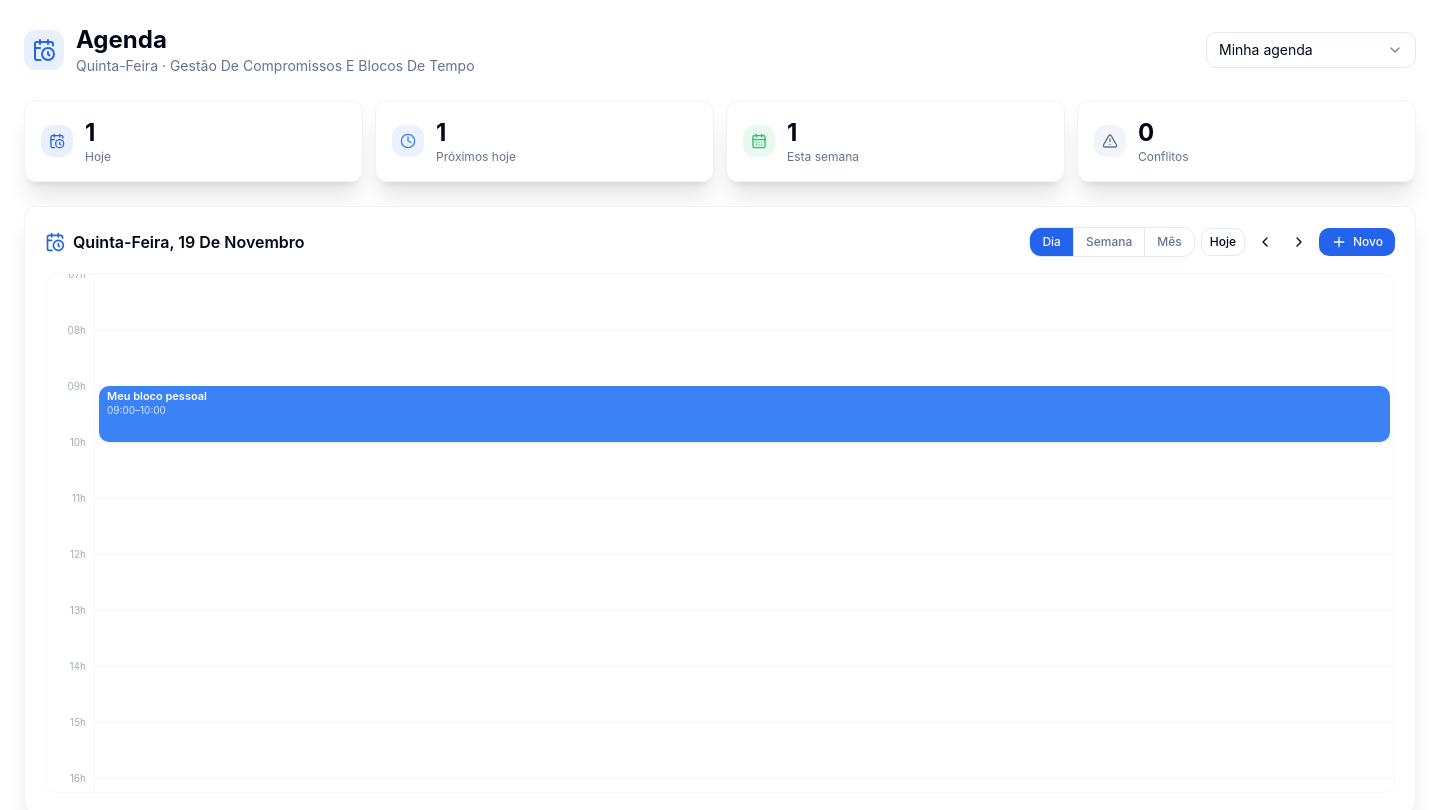
Scenario: AgendaPage — collaborator calendar (MGR-03, MGR-11) › restores the personal view with no residual collaborator rows (MGR-11)
This screenshot has width=1440, height=810.
Step 1. Press the mouse on the dropdown named "Colaborador" → (1311,50), box 1206,32 -> 1416,68
Step 2. Click the dropdown named "Colaborador" → (1311,50), box 1206,32 -> 1416,68
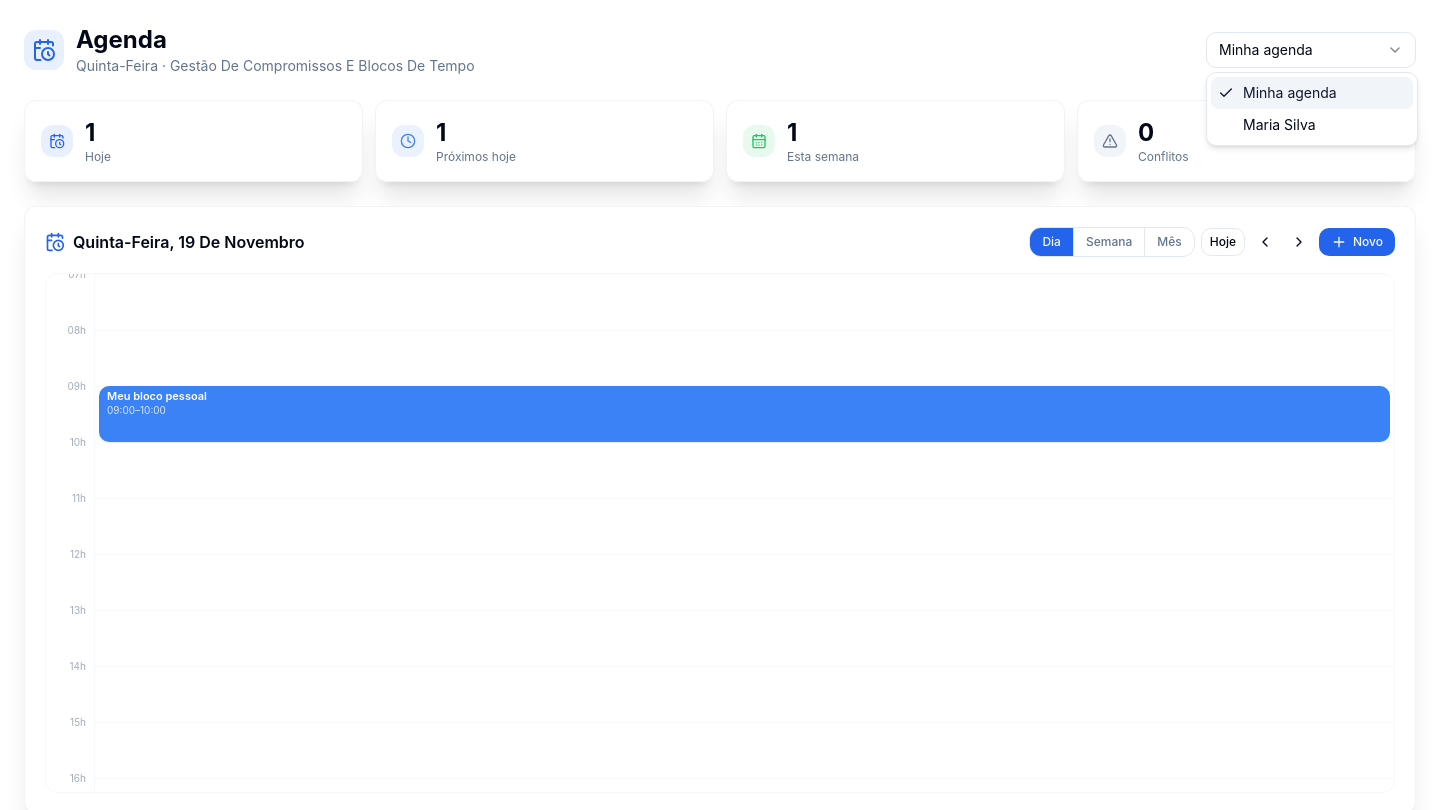
Step 3. Click the option "Maria Silva" → (1279,124), box 1243,116 -> 1316,133
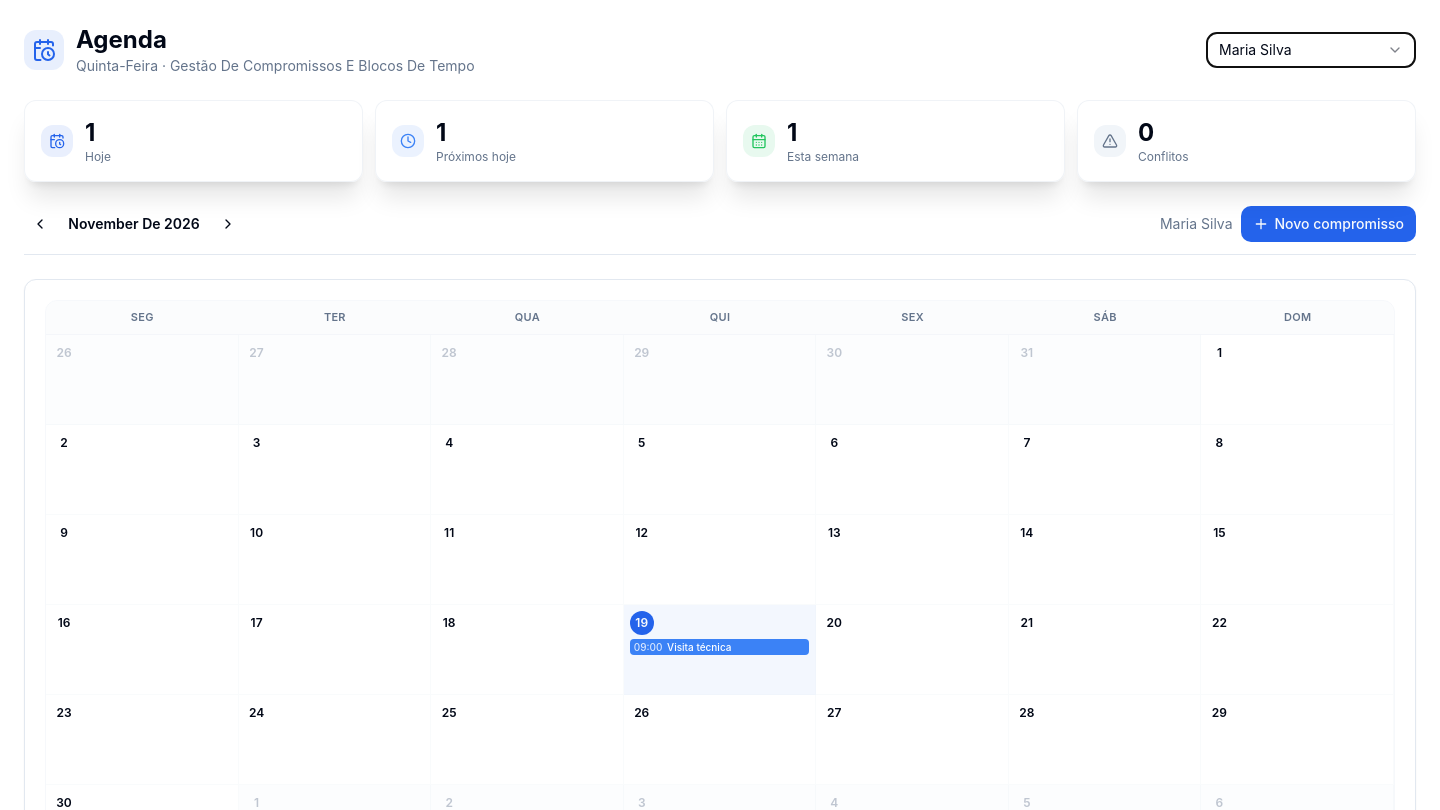
expect the button "Novo compromisso" is shown: met, box 1240,206 -> 1416,242
expect the text "Visita técnica" is shown: met, box 667,640 -> 732,652
Step 4. Press the mouse on the dropdown named "Colaborador" → (1311,50), box 1206,32 -> 1416,68
Step 5. Click the dropdown named "Colaborador" → (1311,50), box 1206,32 -> 1416,68
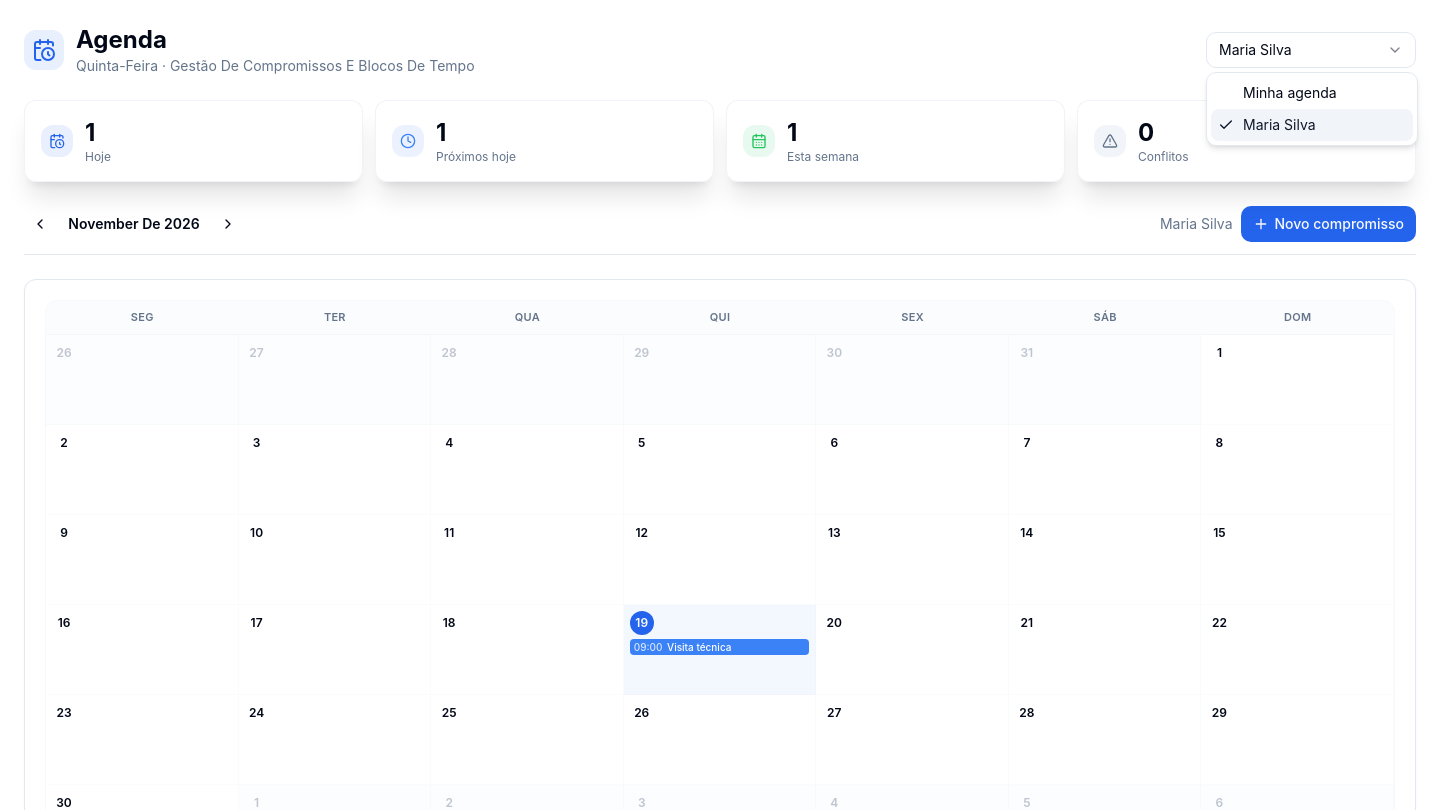
Step 6. Click the option "Minha agenda" → (1290,92), box 1243,84 -> 1337,101
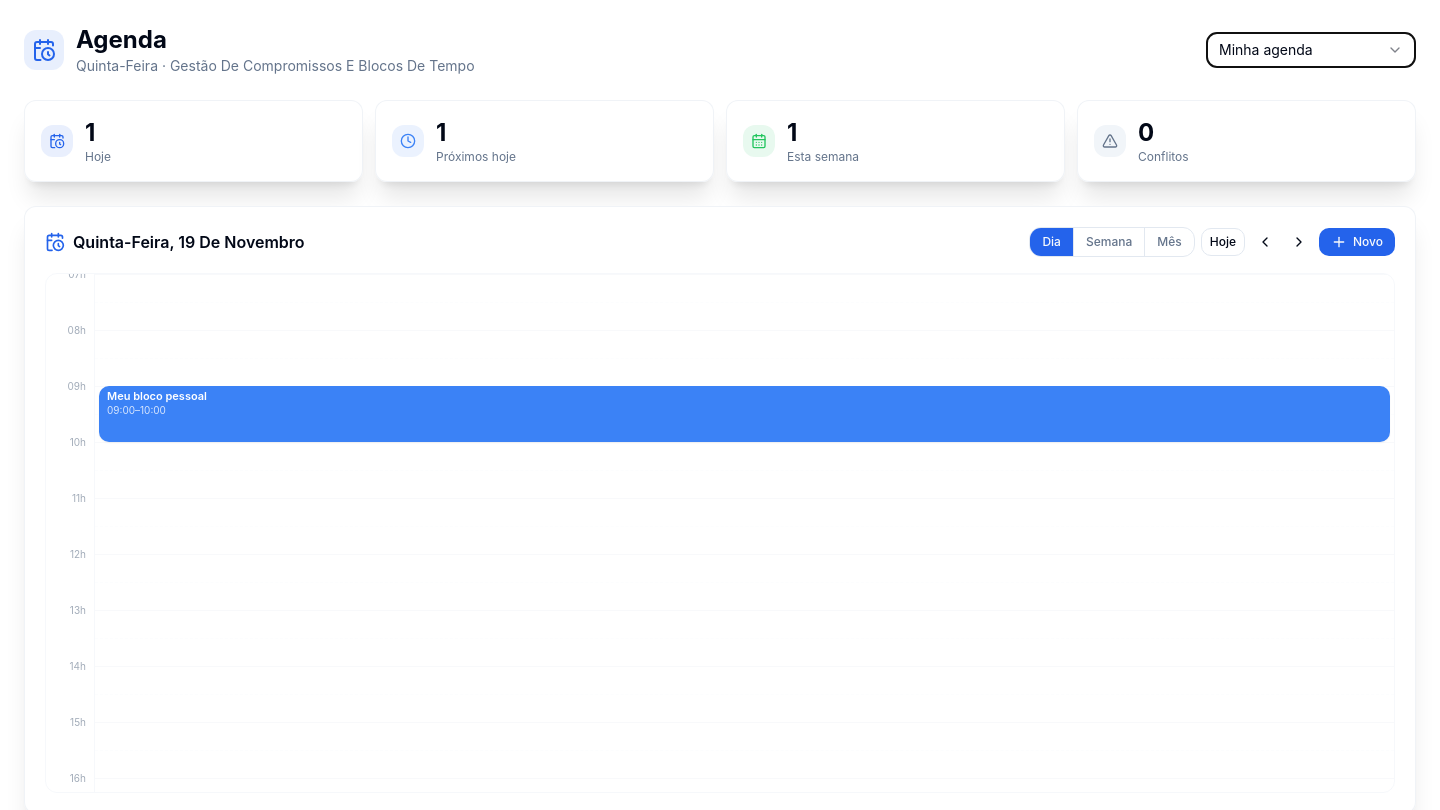
expect the text "Meu bloco pessoal" is shown: met, box 107,390 -> 207,404
expect the text "Visita técnica" is gone: met
